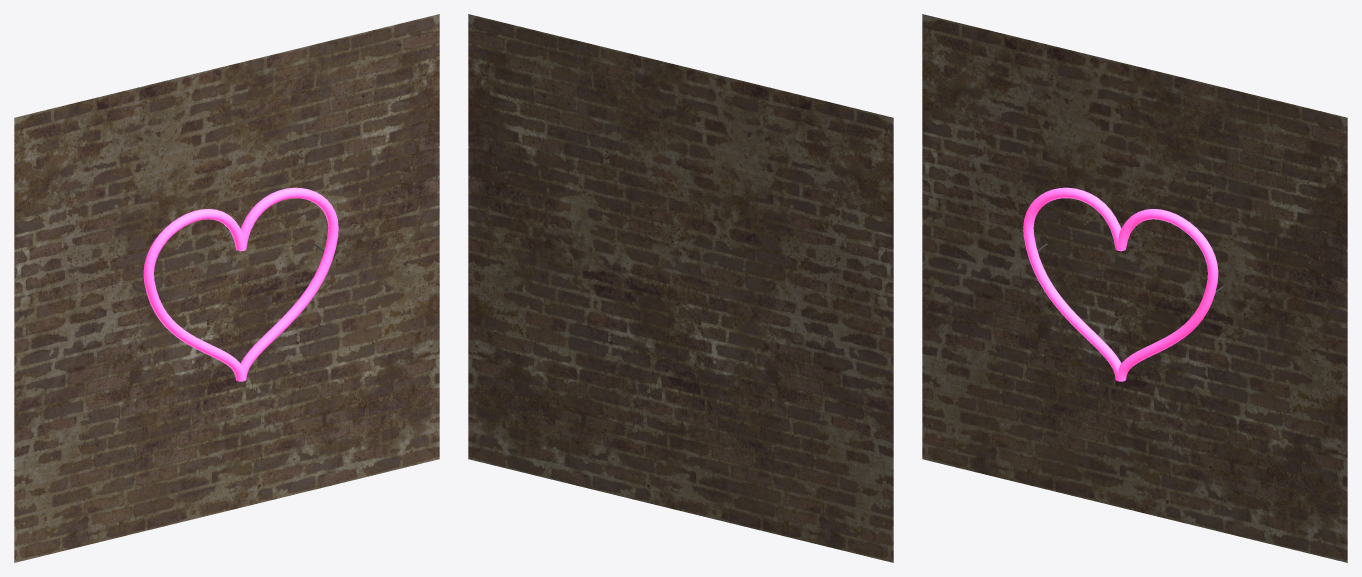
3 views of the same model, side by side, from view 1: azimuth 30°, elevation 25°; view 2: azimuth 150°, elevation 25°; view 3: azimuth 330°, elevation 25° (orthographic).
Parts seen in each view (by area): view 1: wall, heart; view 2: wall; view 3: wall, heart.
Boxes of the visible parts, x1=… form: wall: x1=14, y1=14, x2=439, y2=562; heart: x1=138, y1=187, x2=338, y2=381; wall: x1=468, y1=14, x2=893, y2=562; wall: x1=922, y1=14, x2=1347, y2=562; heart: x1=1023, y1=187, x2=1223, y2=381.
Size of the model in its own units: 154 by 154 by 10.5.
Materials: 2 (2 with a texture image).
